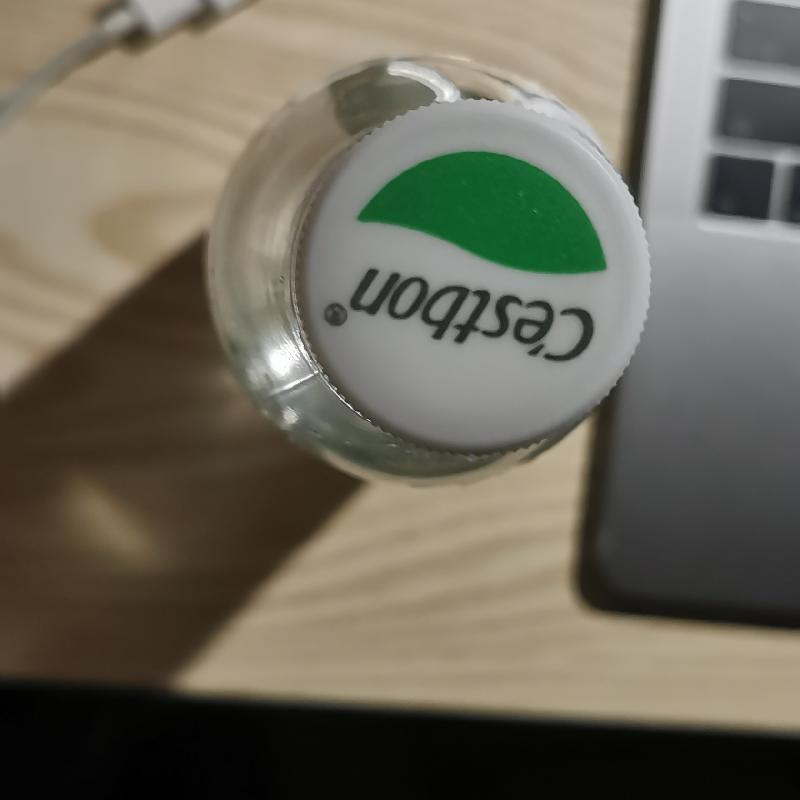bottles: (204, 48, 652, 483)
